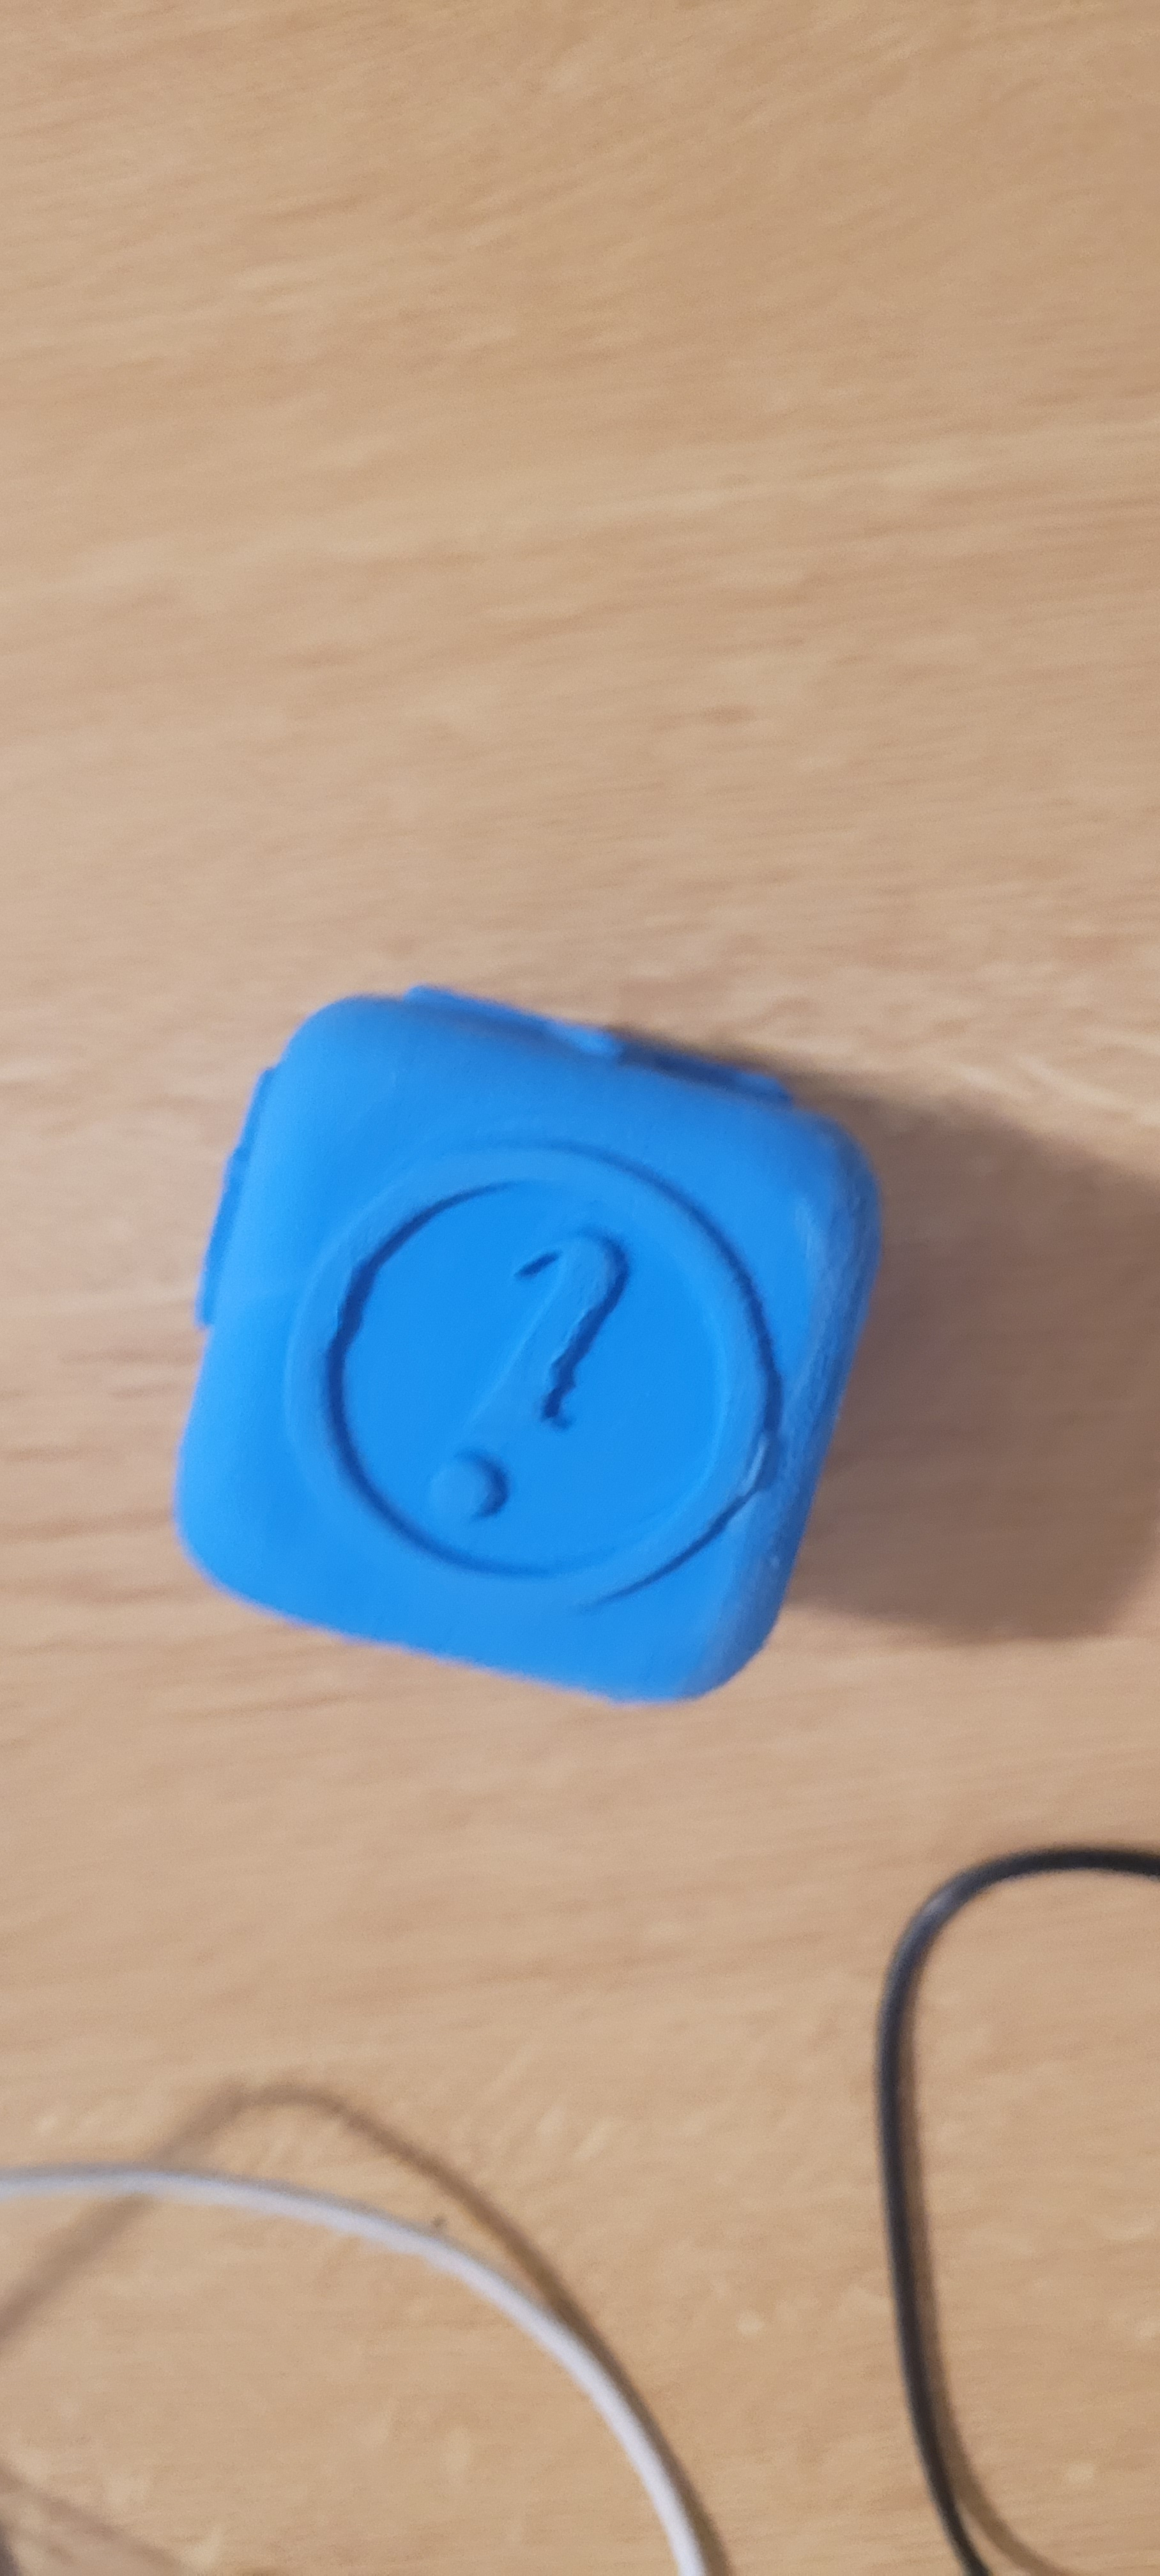Info: (222, 1142, 810, 1579)
